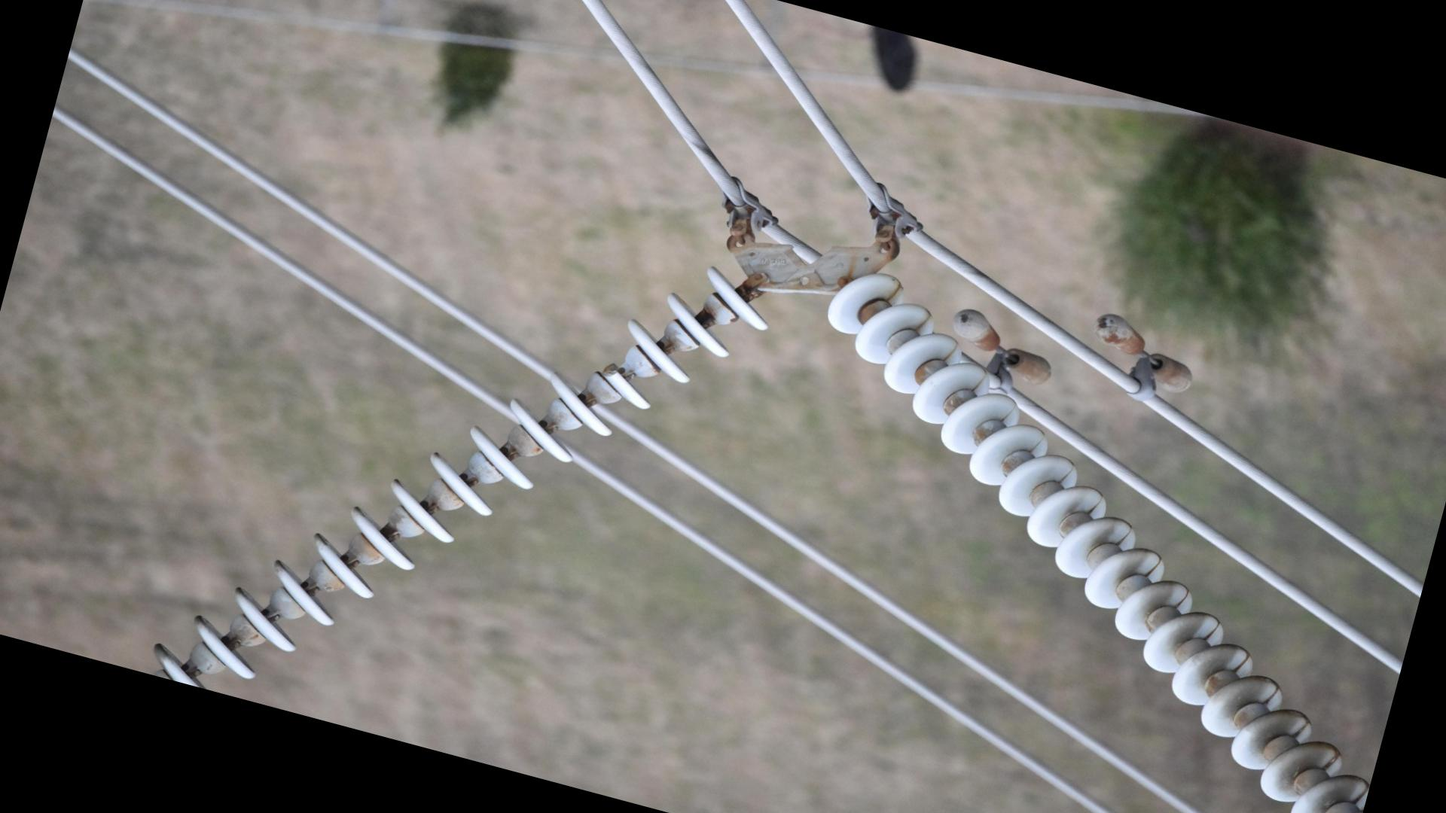damper: (1072, 304, 1208, 419), (936, 301, 1066, 395)
